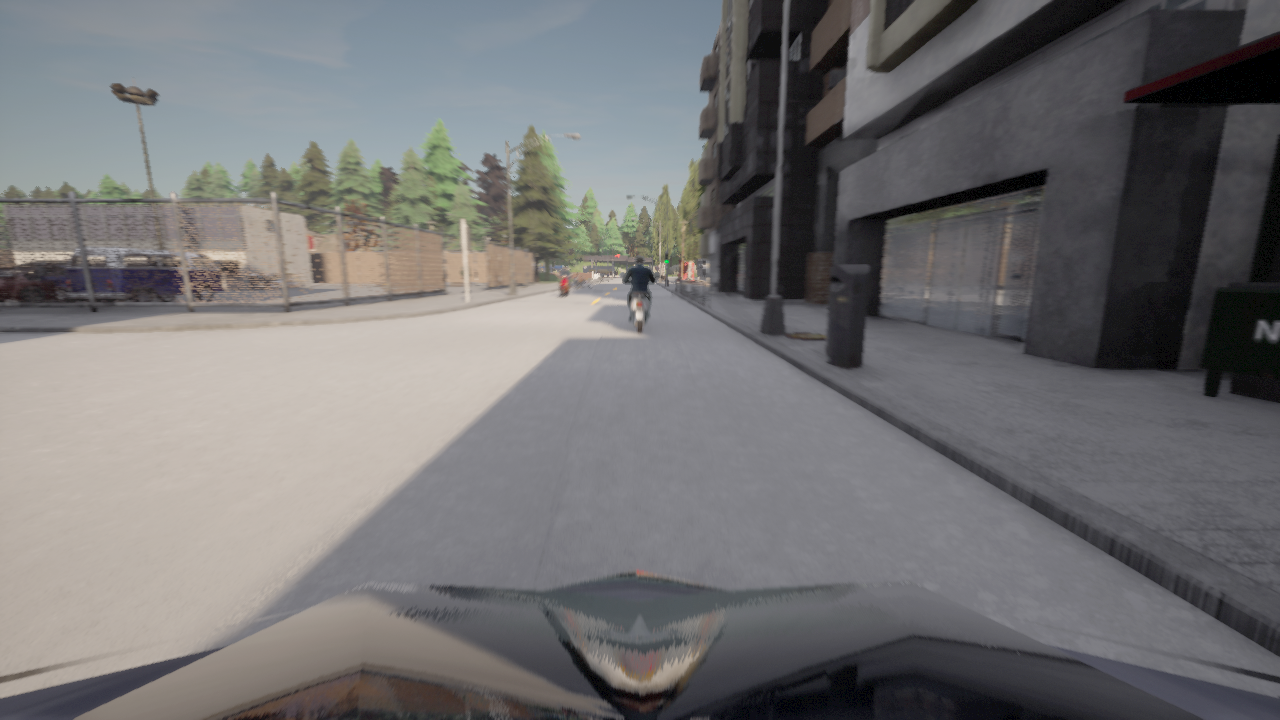cyclist: (0, 569, 1279, 719), (66, 246, 223, 302), (0, 262, 116, 302), (0, 266, 128, 302), (620, 272, 658, 332), (557, 273, 572, 296), (573, 277, 593, 288)
pedestrian: (461, 262, 471, 284)
